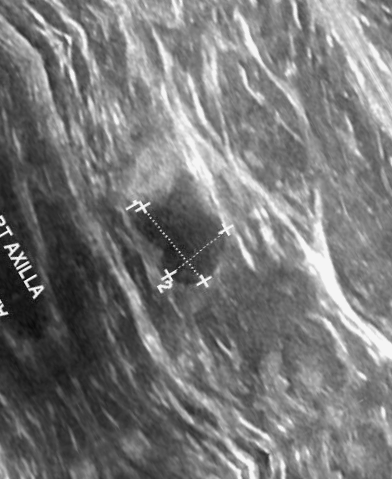Benign: (128, 184, 234, 285)
